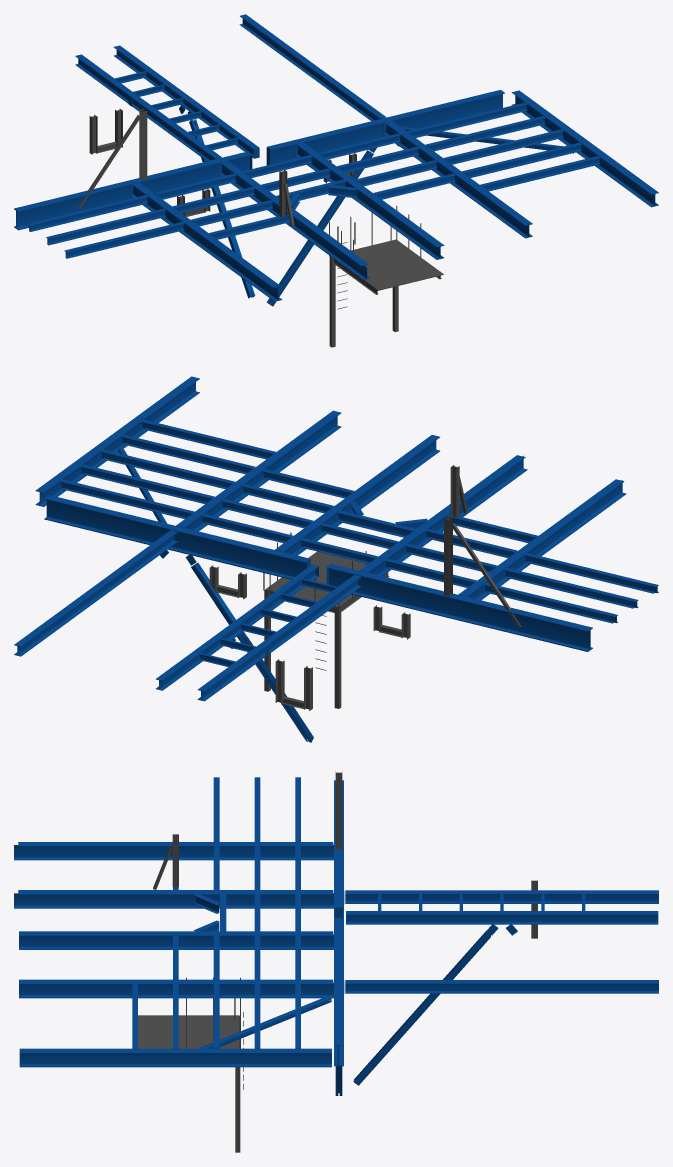
File: GCC-AAV-13220-30.nwd(88).fbx
The picture shows the model from 3 angles, top to bottom: view 1: azimuth 30°, elevation 25°; view 2: azimuth 150°, elevation 25°; view 3: azimuth 270°, elevation 25°; orthographic projection. The views are drawn at different scales.
Visible parts, largest first — view 1: Группа фасетов (×32), PANEL 7 of SBFRAMEWORK /13220-ST-001/CS/KM3/PLT/+58.000, PANEL 5 of SBFRAMEWORK /13220-ST-001/CS/KM3/K/ROW_10-11/C-D, PANEL 3 of SBFRAMEWORK /13220-ST-001/CS/KM3/K/ROW_9-10/C-D, PANEL 23 of SBFRAMEWORK /13220-ST-001/CS/KM3/B/+61.000; view 2: Группа фасетов (×31), PANEL 7 of SBFRAMEWORK /13220-ST-001/CS/KM3/PLT/+58.000, PANEL 3 of SBFRAMEWORK /13220-ST-001/CS/KM3/K/ROW_9-10/C-D, PANEL 5 of SBFRAMEWORK /13220-ST-001/CS/KM3/K/ROW_10-11/C-D, PANEL 23 of SBFRAMEWORK /13220-ST-001/CS/KM3/B/+61.000; view 3: Группа фасетов (×12), PANEL 7 of SBFRAMEWORK /13220-ST-001/CS/KM3/PLT/+58.000, PANEL 5 of SBFRAMEWORK /13220-ST-001/CS/KM3/K/ROW_10-11/C-D.
Part boxes in pixels (bbox=[...]): Группа фасетов (×32): bbox=[14, 14, 658, 306]; PANEL 7 of SBFRAMEWORK /13220-ST-001/CS/KM3/PLT/+58.000: bbox=[351, 239, 443, 290]; PANEL 5 of SBFRAMEWORK /13220-ST-001/CS/KM3/K/ROW_10-11/C-D: bbox=[139, 108, 147, 180]; PANEL 3 of SBFRAMEWORK /13220-ST-001/CS/KM3/K/ROW_9-10/C-D: bbox=[329, 256, 335, 347]; PANEL 23 of SBFRAMEWORK /13220-ST-001/CS/KM3/B/+61.000: bbox=[78, 115, 140, 208]; Группа фасетов (×31): bbox=[14, 376, 658, 742]; PANEL 7 of SBFRAMEWORK /13220-ST-001/CS/KM3/PLT/+58.000: bbox=[265, 551, 367, 607]; PANEL 3 of SBFRAMEWORK /13220-ST-001/CS/KM3/K/ROW_9-10/C-D: bbox=[334, 607, 341, 708]; PANEL 5 of SBFRAMEWORK /13220-ST-001/CS/KM3/K/ROW_10-11/C-D: bbox=[444, 516, 452, 596]; PANEL 23 of SBFRAMEWORK /13220-ST-001/CS/KM3/B/+61.000: bbox=[451, 523, 521, 628]; Группа фасетов (×12): bbox=[14, 780, 658, 1085]; PANEL 7 of SBFRAMEWORK /13220-ST-001/CS/KM3/PLT/+58.000: bbox=[138, 1015, 239, 1048]; PANEL 5 of SBFRAMEWORK /13220-ST-001/CS/KM3/K/ROW_10-11/C-D: bbox=[335, 771, 342, 850].
Bounding box in the file's own units: 787 × 354 × 778.
